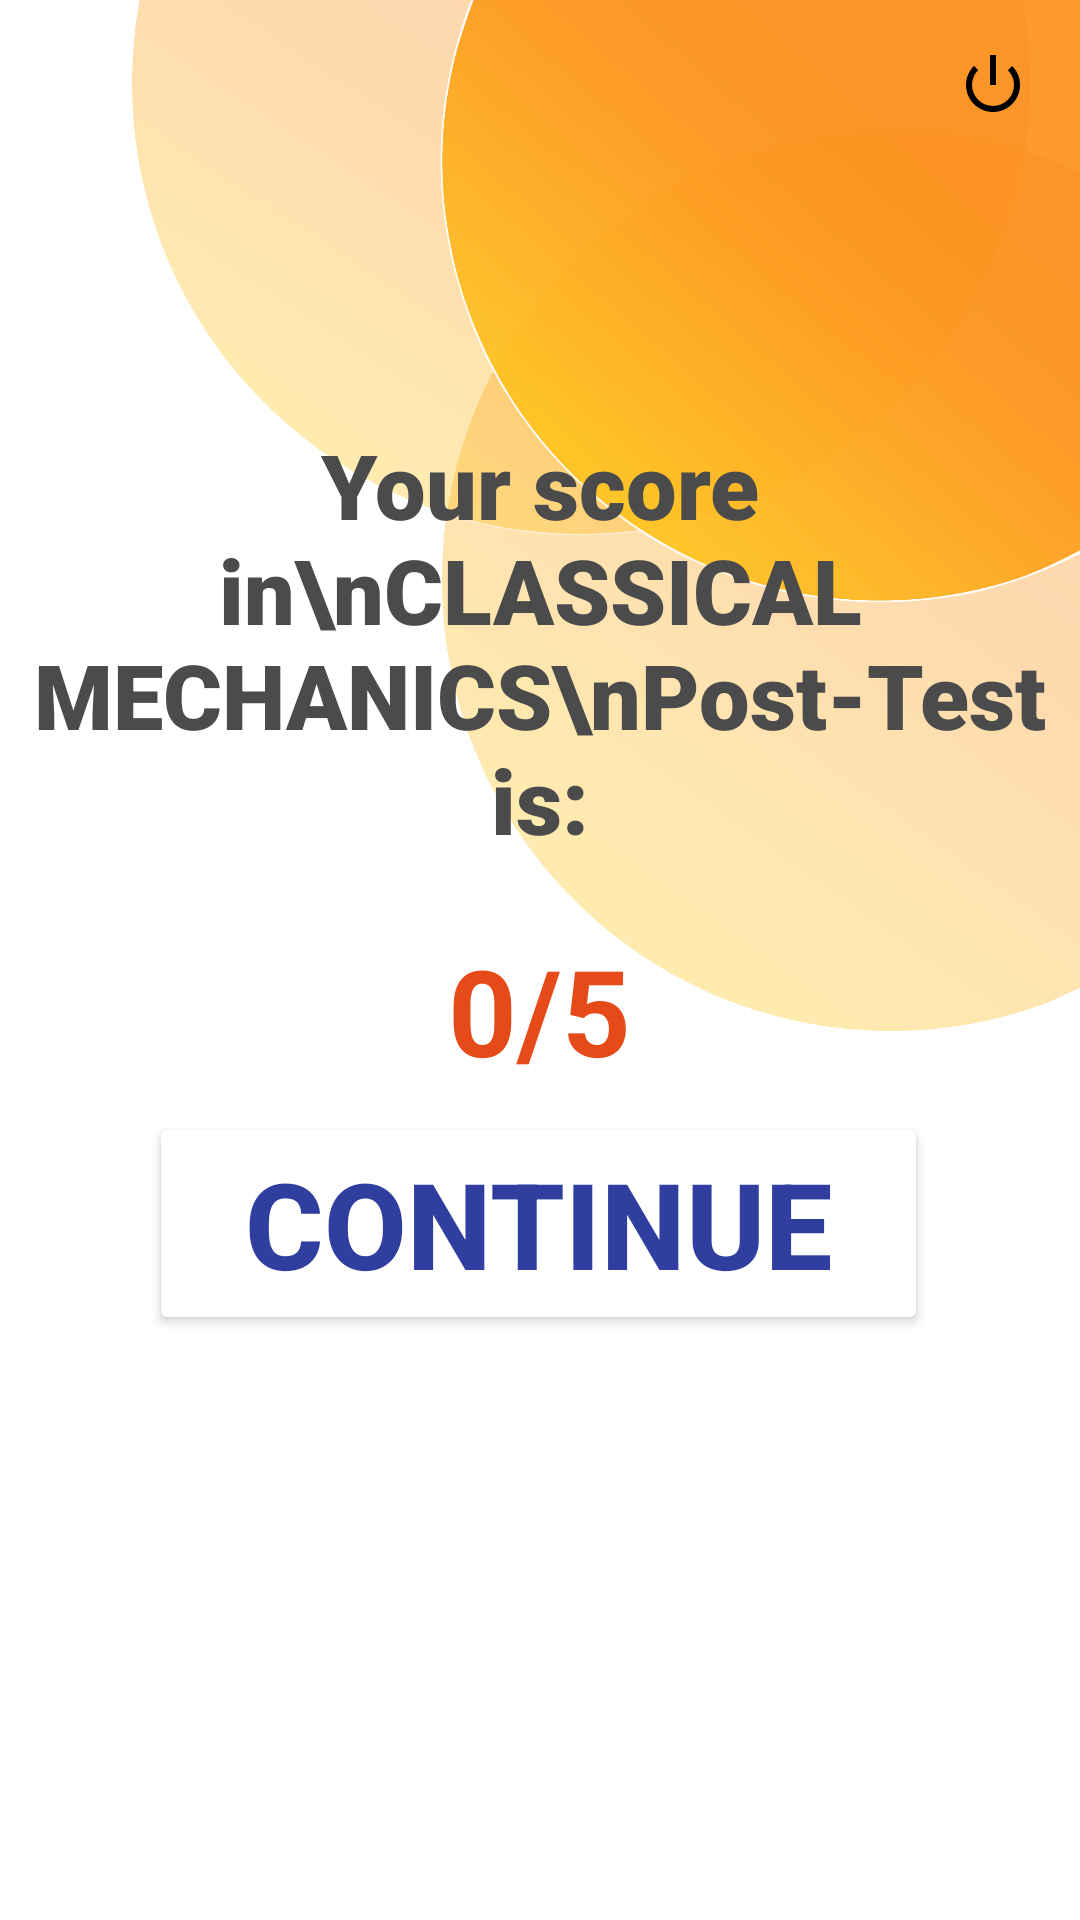

Icons on this 1080*1920 Android screen, each with its box as rect(x1, y1, x2, y2):
lock power off: rect(966, 55, 1020, 112)
